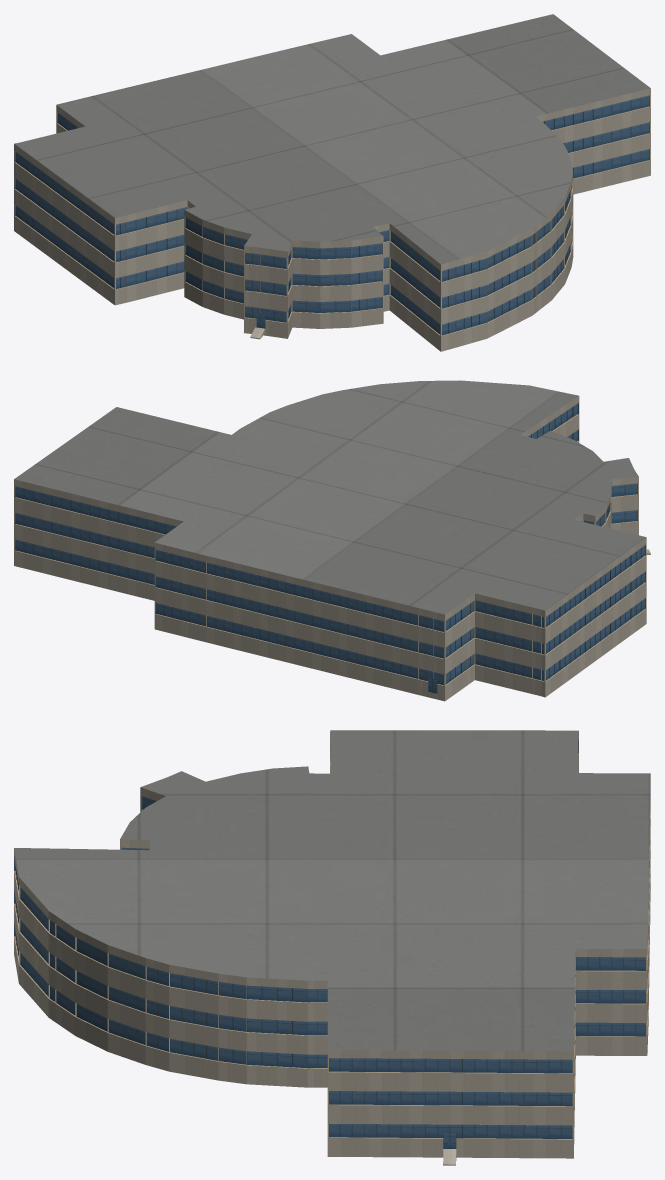
Rendered from engineering_and_computer_science_south.glb.
3 renders of one model, top to bottom at view 1: azimuth 30°, elevation 25°; view 2: azimuth 150°, elevation 25°; view 3: azimuth 270°, elevation 25°, orthographic. The views are drawn at different scales.
Parts seen in each view (by area): view 1: engineering_and_computer_science_south_CampusAtlas_facade.03, engineering_and_computer_science_south_CampusAtlas_glass.036; view 2: engineering_and_computer_science_south_CampusAtlas_facade.03, engineering_and_computer_science_south_CampusAtlas_glass.036; view 3: engineering_and_computer_science_south_CampusAtlas_facade.03, engineering_and_computer_science_south_CampusAtlas_glass.036.
Boxes of the visible parts, x1,y1,x2,y2 form: engineering_and_computer_science_south_CampusAtlas_facade.03: (14, 14, 650, 351); engineering_and_computer_science_south_CampusAtlas_glass.036: (14, 95, 649, 335); engineering_and_computer_science_south_CampusAtlas_facade.03: (14, 380, 650, 701); engineering_and_computer_science_south_CampusAtlas_glass.036: (15, 403, 645, 693); engineering_and_computer_science_south_CampusAtlas_facade.03: (14, 730, 650, 1165); engineering_and_computer_science_south_CampusAtlas_glass.036: (14, 739, 645, 1148).
Size of the model in its own units: 99.88 by 15.15 by 81.78.
Materials: 2 (2 with a texture image).
